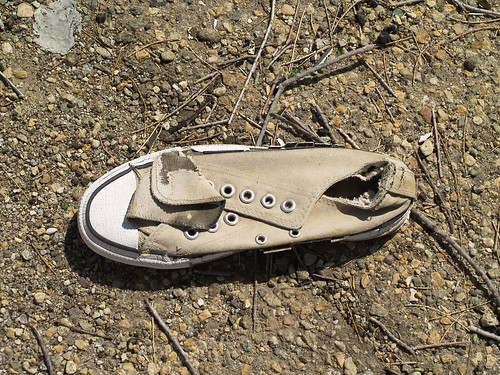shoe: (73, 126, 408, 269)
